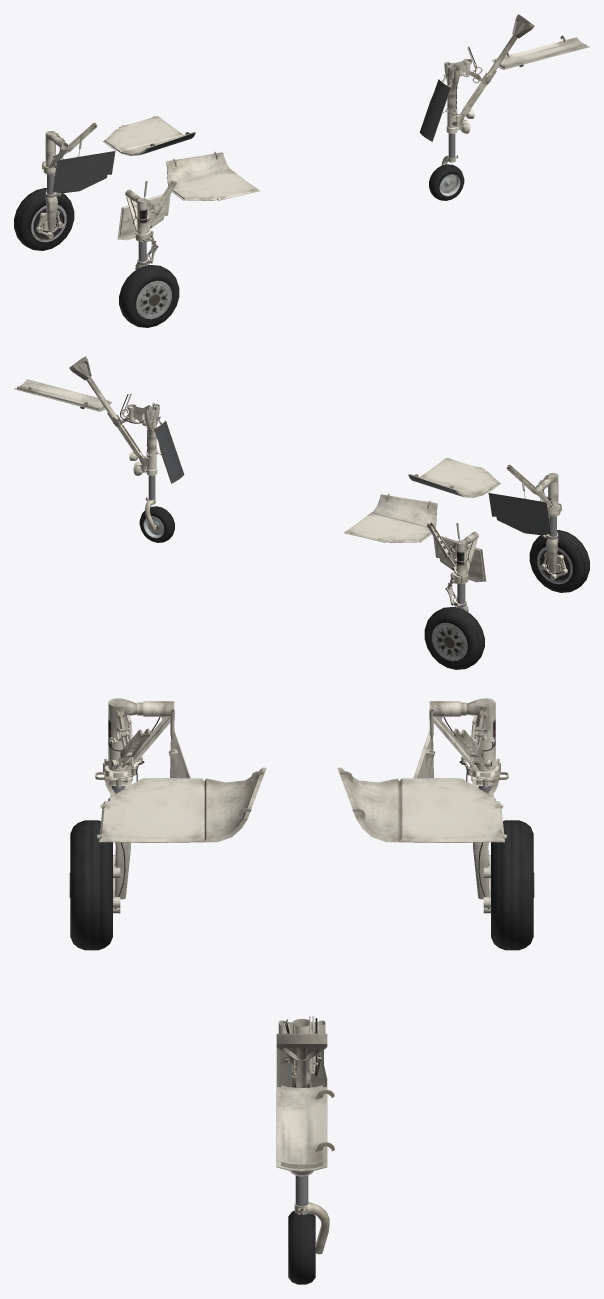
File: f15e_GearOn_SM.FBX
The picture shows the model from 3 angles, top to bottom: view 1: azimuth 30°, elevation 25°; view 2: azimuth 150°, elevation 25°; view 3: azimuth 270°, elevation 25°; orthographic projection. The views are drawn at different scales.
Parts seen in each view (by area): view 1: f15e_GearOn_SM; view 2: f15e_GearOn_SM; view 3: f15e_GearOn_SM.
Boxes of the visible parts, x1,y1,x2,y2 form: f15e_GearOn_SM: [14, 14, 589, 327]; f15e_GearOn_SM: [14, 356, 589, 669]; f15e_GearOn_SM: [69, 698, 534, 1284].
Size of the model in its own units: 79.49 by 24.18 by 31.07.
2 materials, 1 textured.
